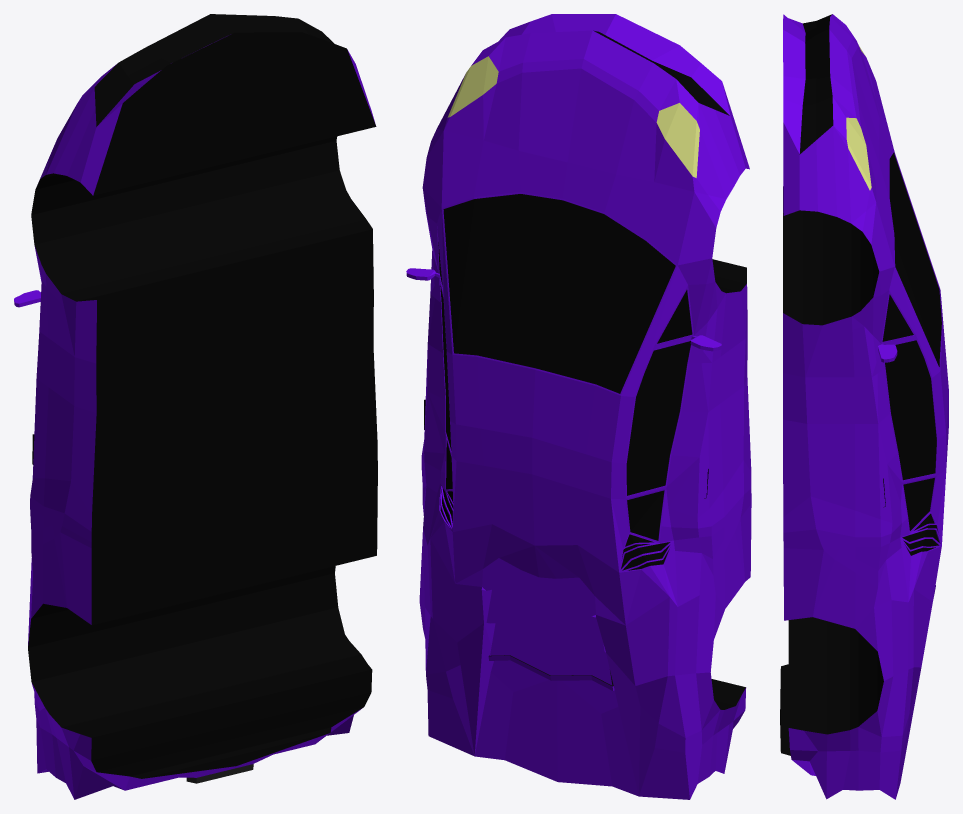
File: Lambokarosserie.fbx
The picture shows the model from 3 angles, left to right: view 1: azimuth 30°, elevation 25°; view 2: azimuth 150°, elevation 25°; view 3: azimuth 270°, elevation 25°; orthographic projection. The views are drawn at different scales.
Visible parts, largest first — view 1: Autokärper; view 2: Autokärper; view 3: Autokärper.
Boxes of the visible parts, <box> form: Autokärper: <box>14,14,377,799</box>; Autokärper: <box>406,14,751,799</box>; Autokärper: <box>780,14,948,799</box>.
Size of the model in its own units: 141 by 312 by 66.25.
